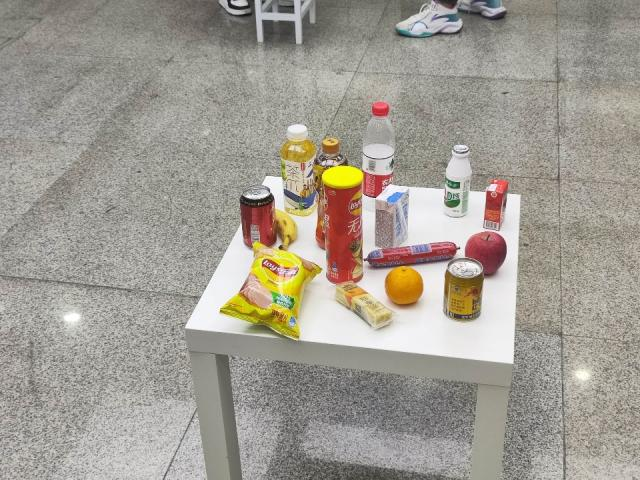Canned_drinks: (445, 256, 484, 327), (238, 184, 278, 248)
